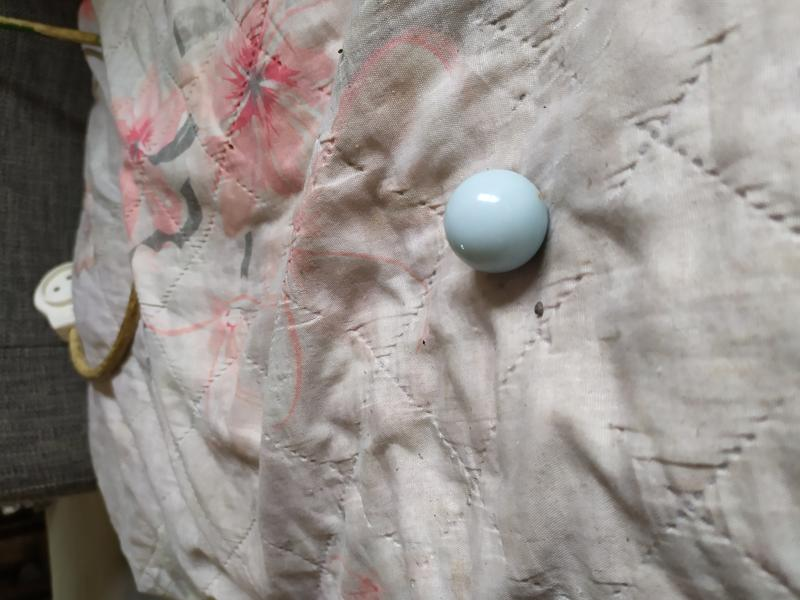Warning: (441, 166, 551, 277)
